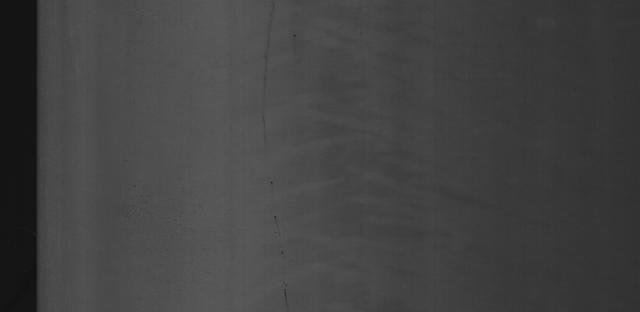inclusion: (257, 13, 297, 306)
